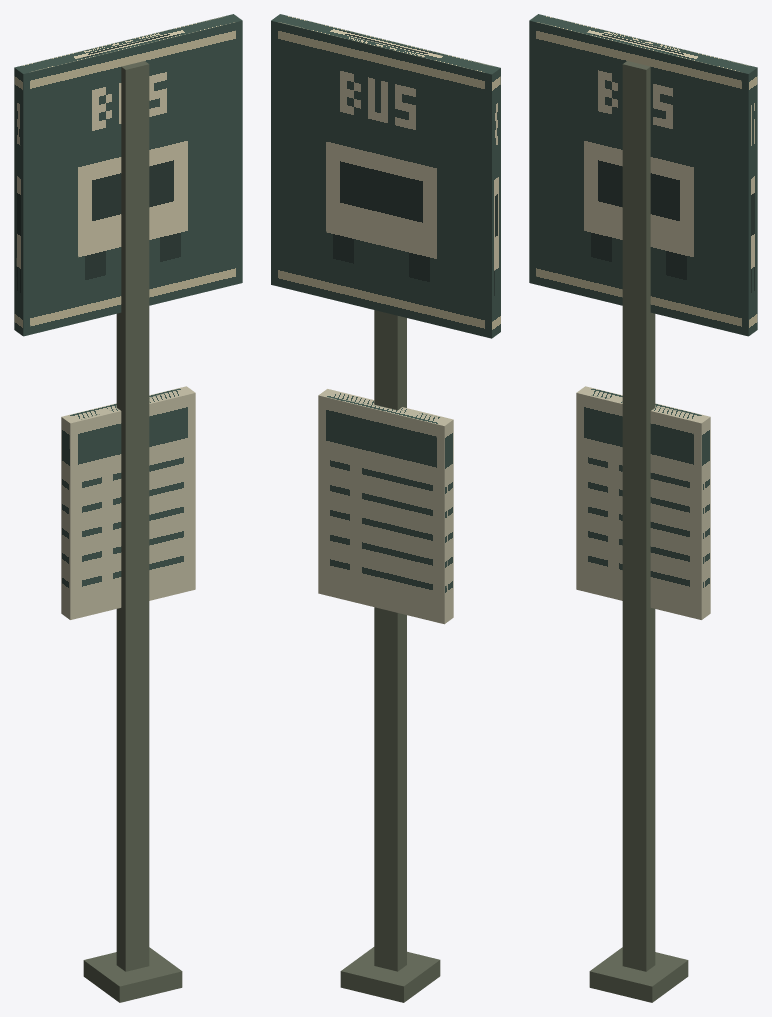
Rendered from bus_stop_sign.gltf.
3 views of the same model, side by side, from view 1: azimuth 30°, elevation 25°; view 2: azimuth 150°, elevation 25°; view 3: azimuth 330°, elevation 25° (orthographic).
Parts seen in each view (by area): view 1: route_sign, post, timetable, base; view 2: route_sign, timetable, post, base; view 3: route_sign, post, timetable, base.
Part boxes in pixels (x1,y1,x2,y2): route_sign: (14, 14, 242, 336); post: (116, 61, 149, 971); timetable: (61, 386, 195, 619); base: (83, 947, 182, 1002); route_sign: (271, 14, 500, 338); timetable: (318, 389, 453, 624); post: (374, 310, 406, 971); base: (340, 947, 440, 1002); route_sign: (529, 14, 757, 336); post: (622, 61, 655, 971); timetable: (576, 386, 710, 619); base: (589, 947, 688, 1002).
Size of the model in its own units: 0.875 by 3.56 by 0.25.
Materials: 3 (3 with a texture image).
